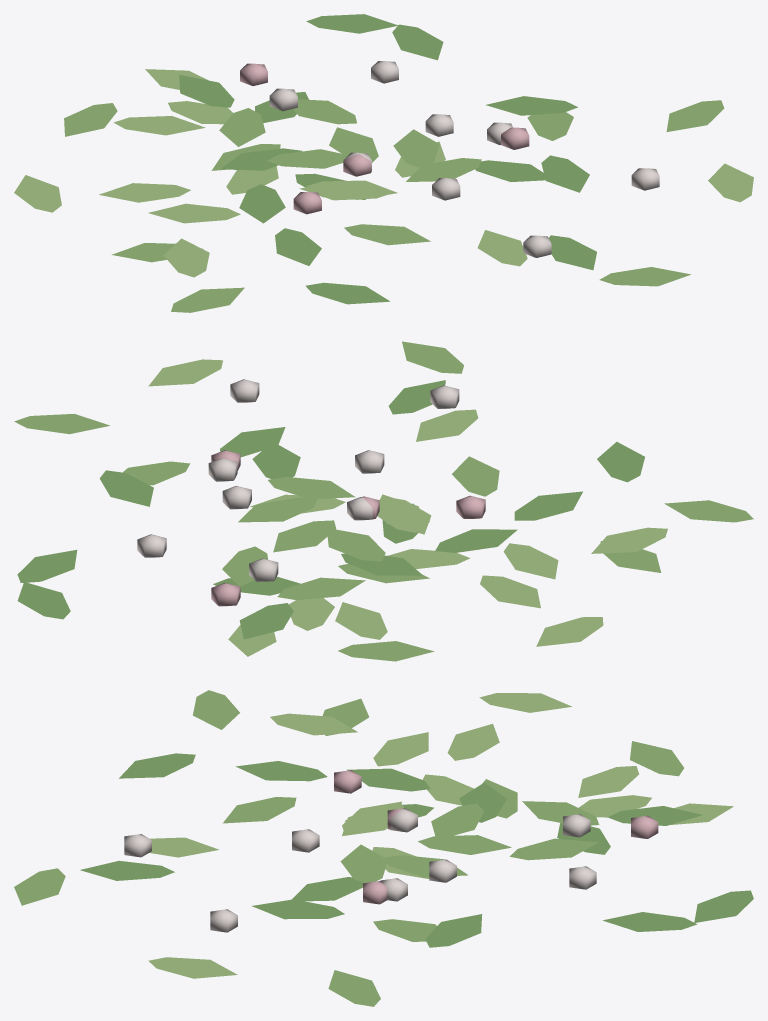
Rendered from ring_softgrass.glb.
3 renders of one model, top to bottom at view 1: azimuth 30°, elevation 25°; view 2: azimuth 150°, elevation 25°; view 3: azimuth 270°, elevation 25°, orthographic. The views are drawn at different scales.
Visible parts, largest first — view 1: body_nh, body_nl; view 2: body_nh, body_nl; view 3: body_nh, body_nl.
Boxes of the visible parts, x1,y1,x2,y2 form: body_nh: [14, 14, 753, 312]; body_nl: [240, 61, 659, 257]; body_nh: [14, 341, 753, 661]; body_nl: [137, 379, 485, 606]; body_nh: [14, 690, 753, 1006]; body_nl: [124, 770, 658, 932].
Bounding box in the file's own units: 9.35 × 0.314 × 9.26.
